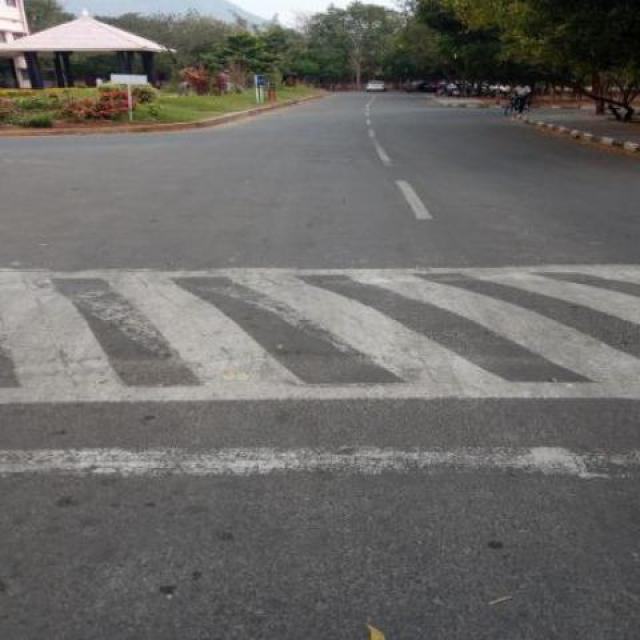Speed Bump: (0, 263, 639, 478)
